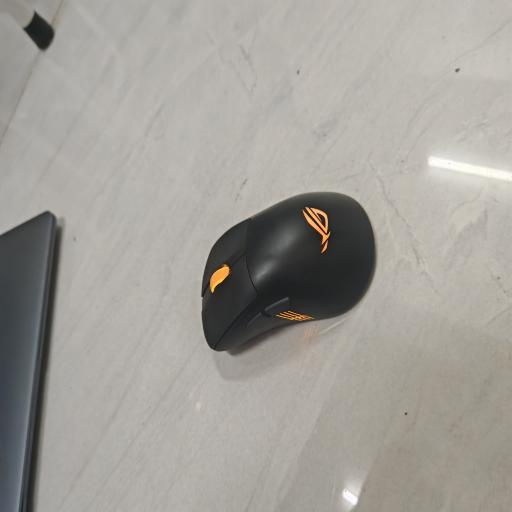laptop: (0, 212, 56, 512)
mouse: (202, 192, 375, 351)
